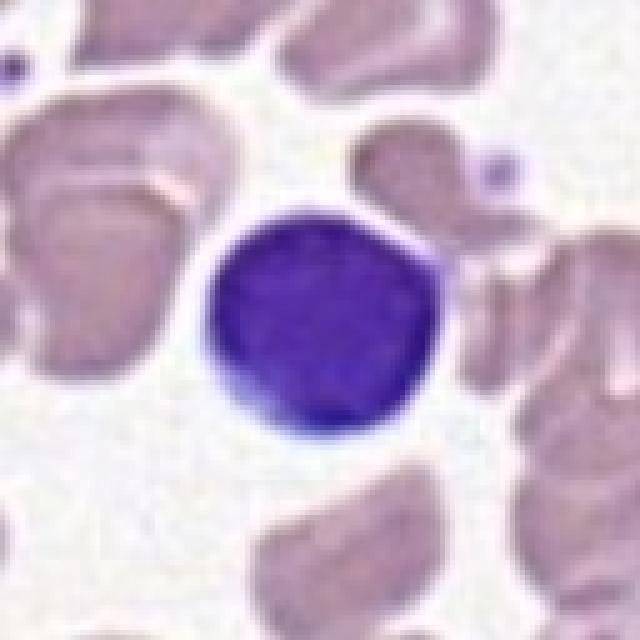lympho: (197, 204, 448, 443)
